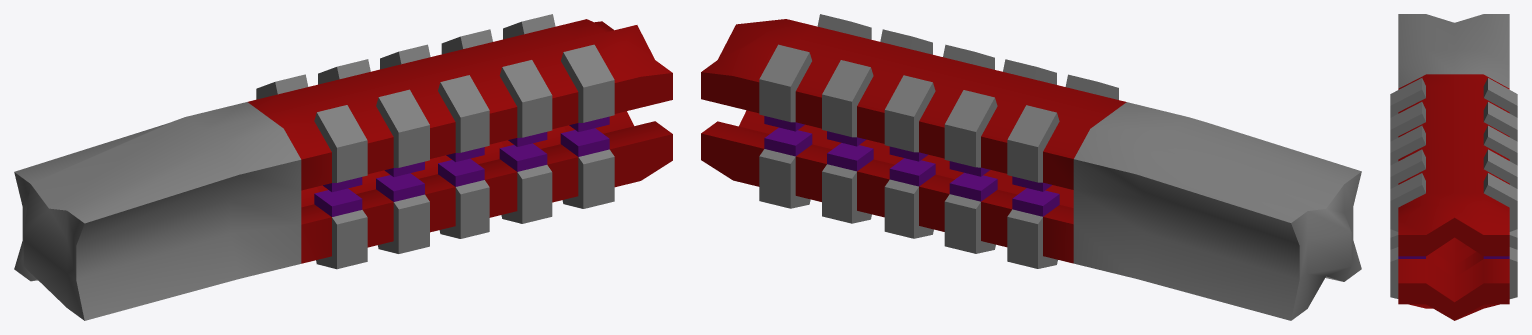
The model's file is MS_Railgun.fbx.
The picture shows the model from 3 angles, left to right: view 1: azimuth 30°, elevation 25°; view 2: azimuth 150°, elevation 25°; view 3: azimuth 270°, elevation 25°; orthographic projection. The views are drawn at different scales.
Parts seen in each view (by area): view 1: pCube1; view 2: pCube1; view 3: pCube1.
Part boxes in pixels (x1,y1,x2,y2): pCube1: (14, 14, 672, 320); pCube1: (701, 14, 1361, 320); pCube1: (1390, 14, 1517, 320).
Size of the model in its own units: 19.84 by 4.7 by 4.52.
